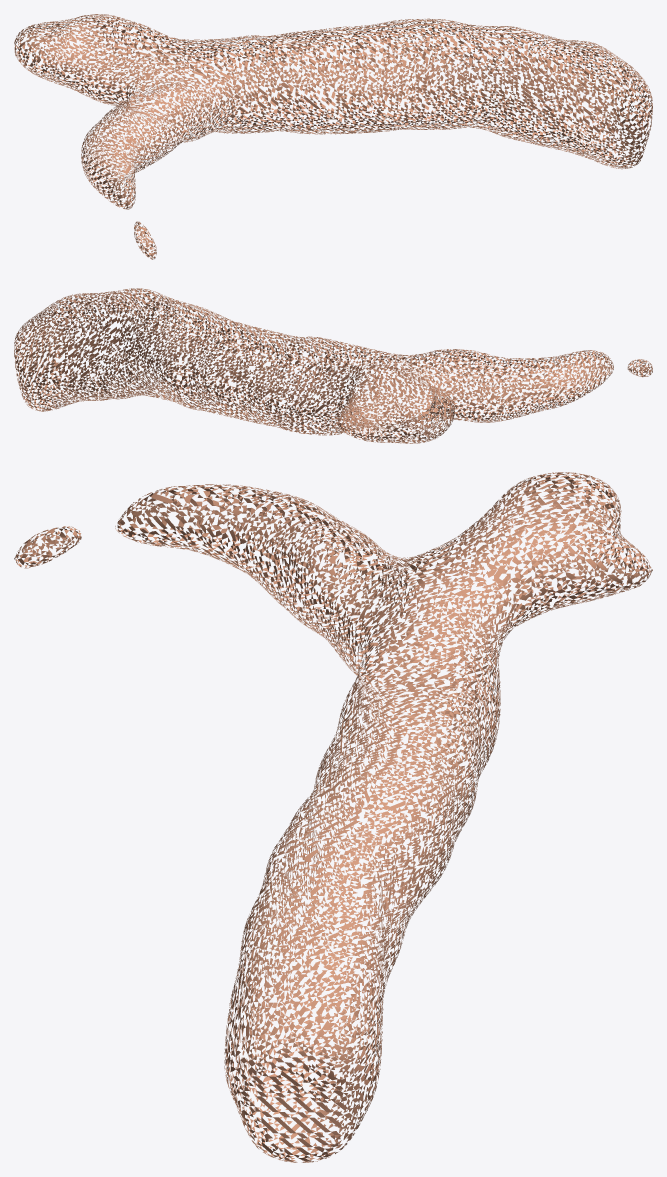
File: morph_004.glb
3 renders of one model, top to bottom at view 1: azimuth 30°, elevation 25°; view 2: azimuth 150°, elevation 25°; view 3: azimuth 270°, elevation 25°, orthographic. The views are drawn at different scales.
Bounding box in the file's own units: 133 × 42.29 × 79.95.
